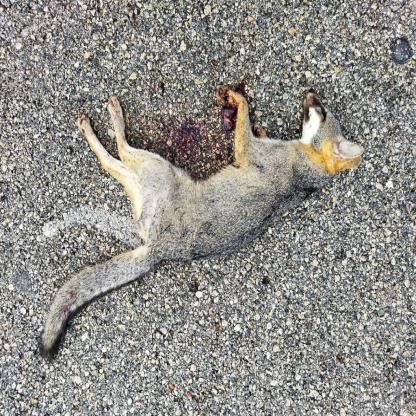zorro: (34, 82, 370, 368)
